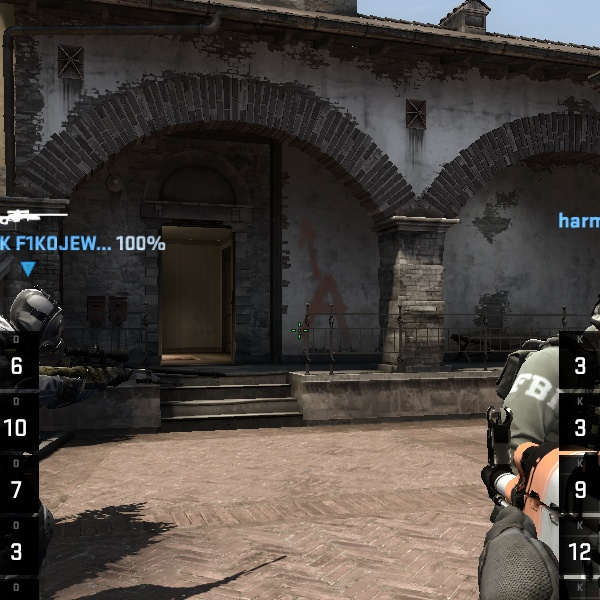ct_body: (3, 262, 153, 600), (487, 264, 599, 600)
